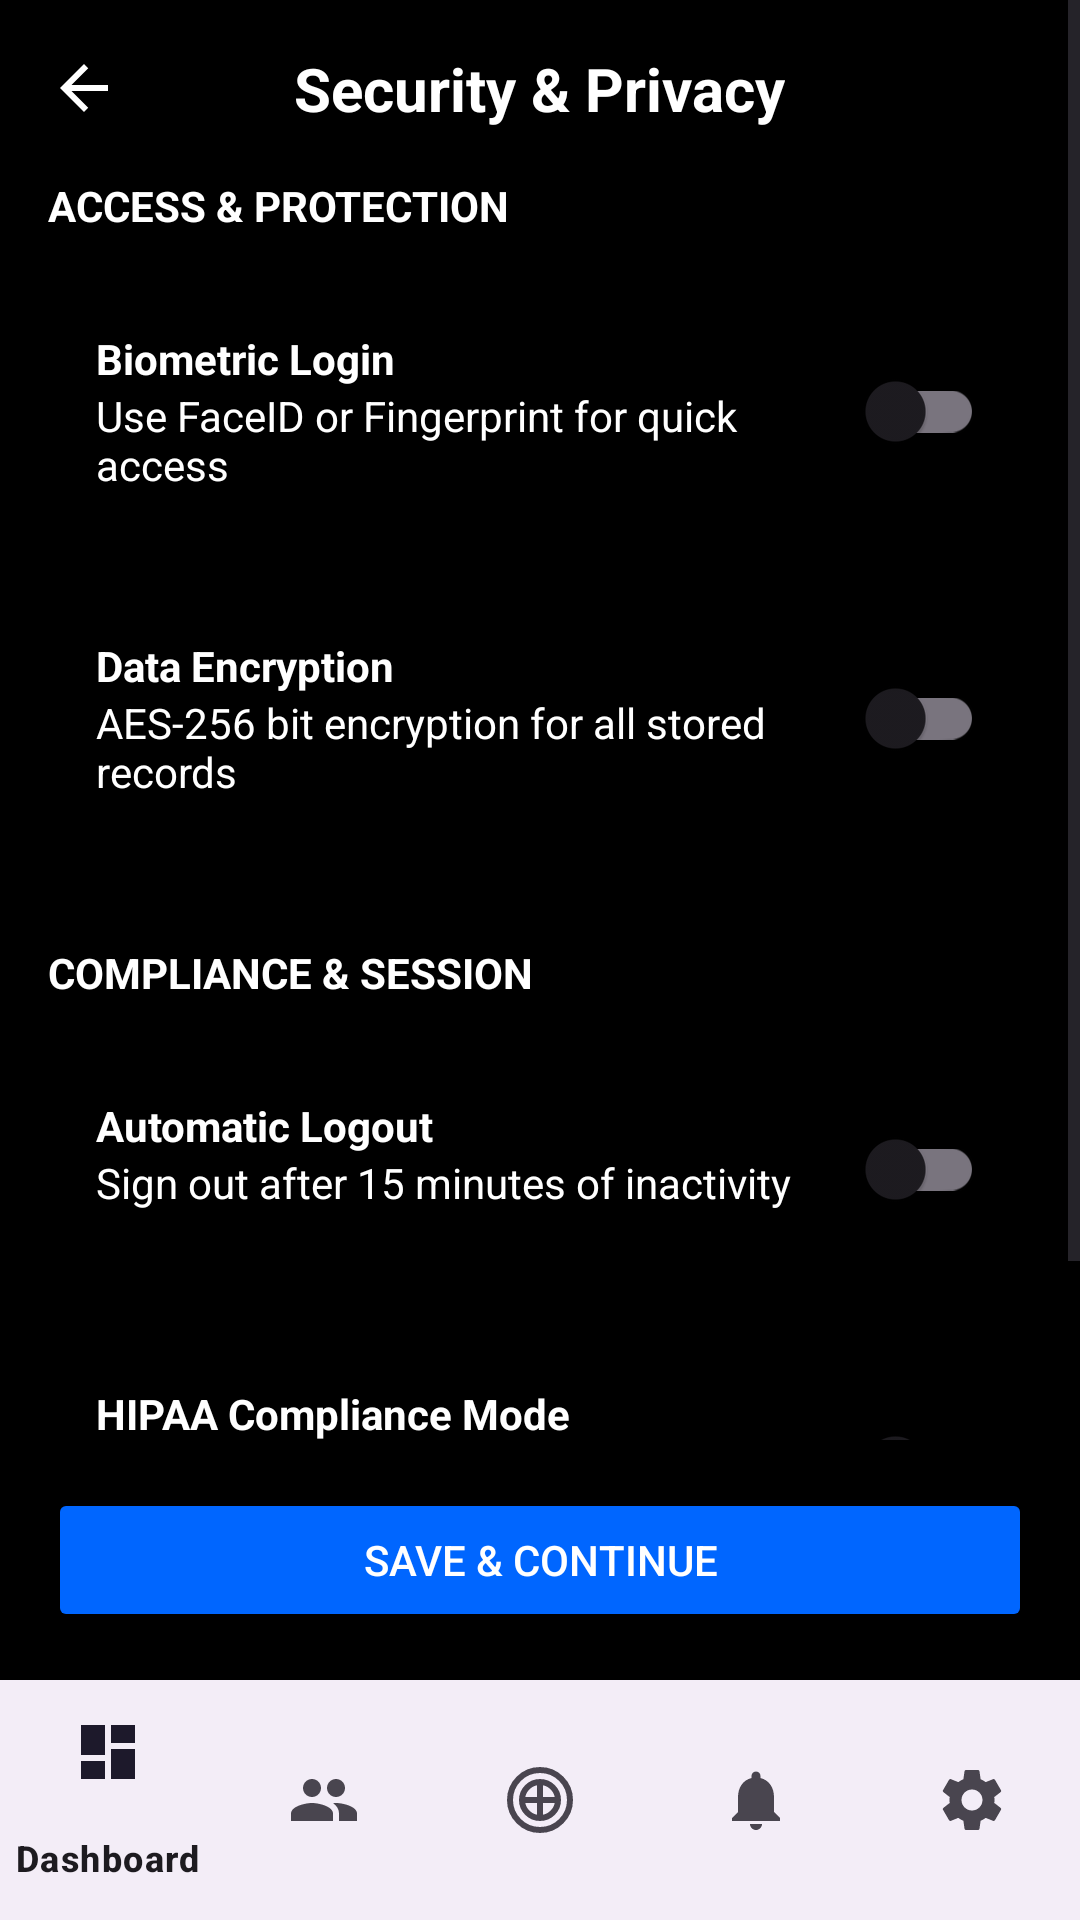

Icons on this 1080px x 1920px Android screen, each with its box as (x1, y1, x2, y2):
arrow back: (60, 64, 108, 112)
